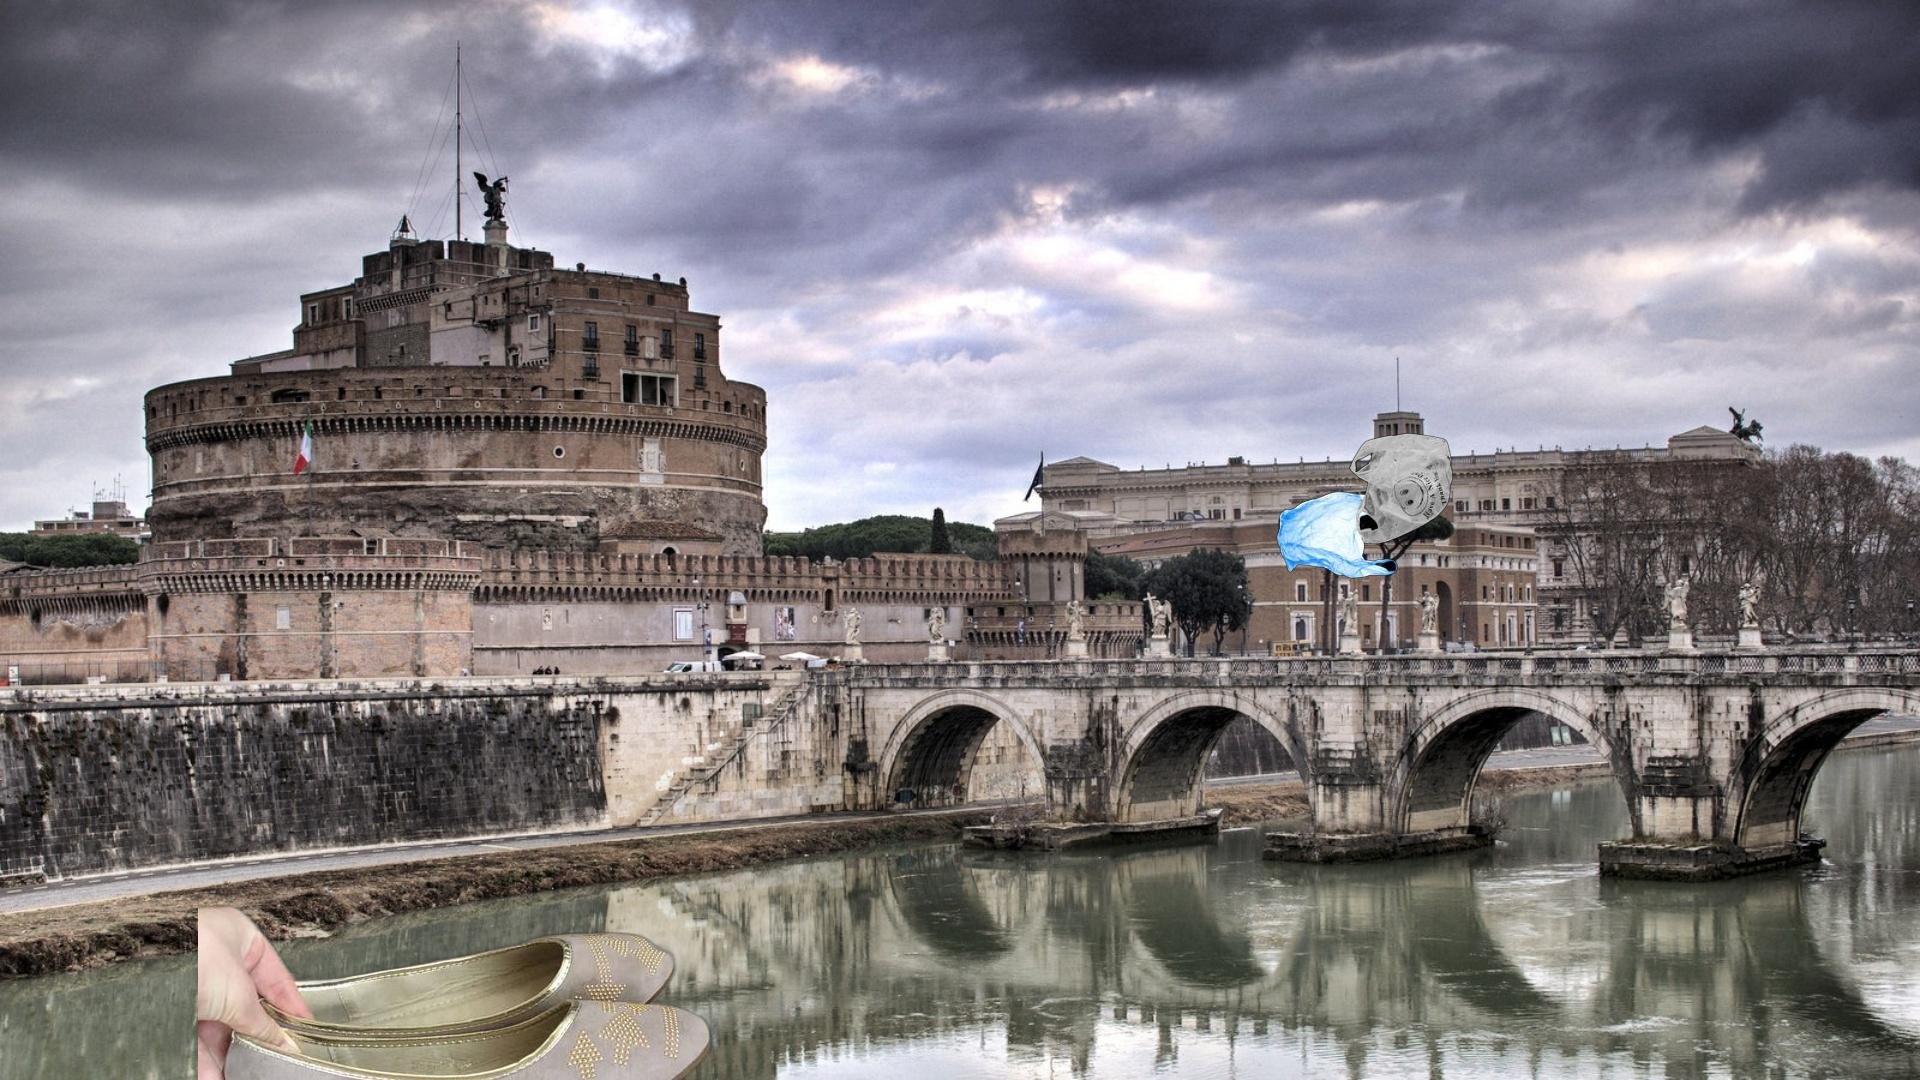plastic-bag: (1276, 430, 1455, 582)
shoes: (198, 862, 731, 1080)
